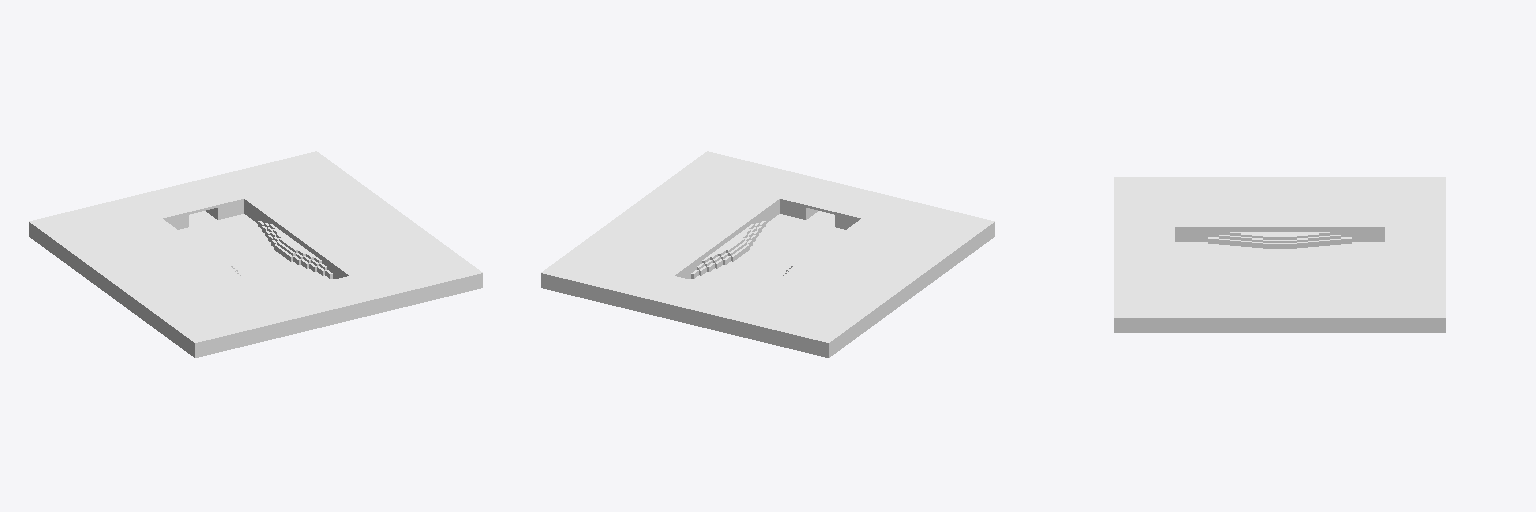
The model's file is arenaLongNoWalls.obj.
The picture shows the model from 3 angles: view 1: azimuth 30°, elevation 25°; view 2: azimuth 150°, elevation 25°; view 3: azimuth 270°, elevation 25°; orthographic projection.
Visible parts, largest first — view 1: ObjObject; view 2: ObjObject; view 3: ObjObject.
Boxes of the visible parts, box(x1,y1,x2,y2) form: ObjObject: box(29, 151, 482, 357); ObjObject: box(541, 151, 994, 357); ObjObject: box(1114, 177, 1445, 332).
Size of the model in its own units: 12 by 0.7 by 12.